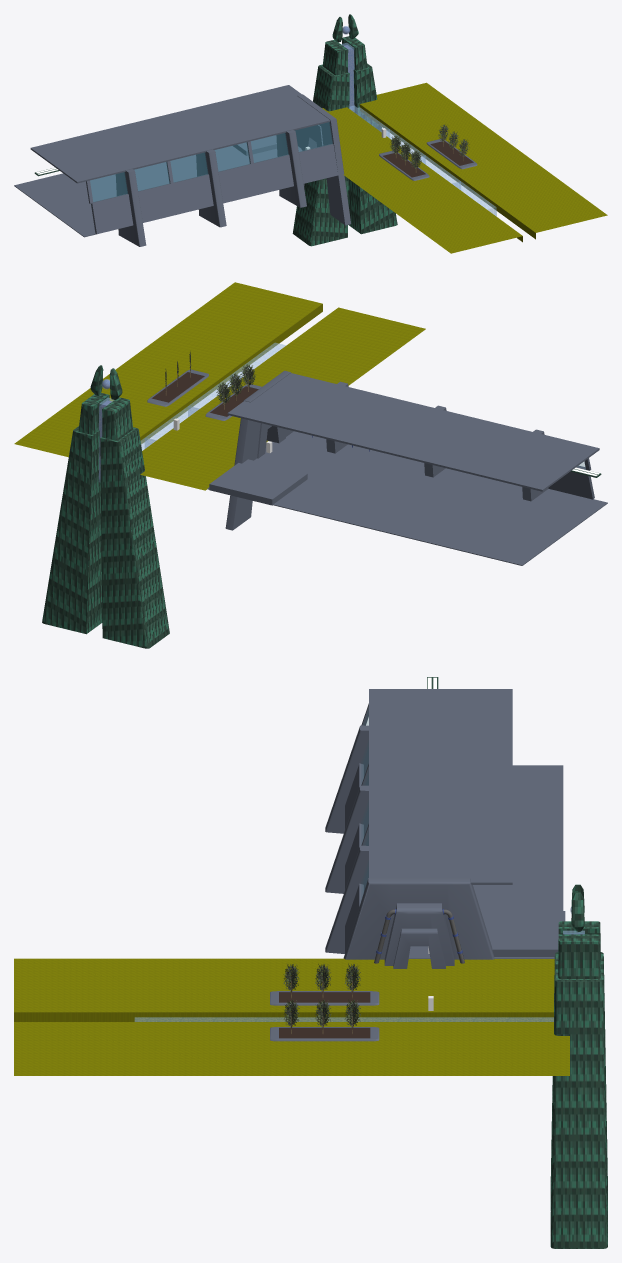
3 views of the same model, one above another, from view 1: azimuth 30°, elevation 25°; view 2: azimuth 150°, elevation 25°; view 3: azimuth 270°, elevation 25° (orthographic). The views are drawn at different scales.
Visible parts, largest first — view 1: Plane, Plane005, Cube_1, Cube003, Plane003, Cube_2, Plane004, Cube023, Cube, Plane006, Plane002, Cube001 (+4 smaller); view 2: Plane, Plane003, Cube003, Plane005, Plane006, Plane004, Cube, Cube_1, Cube023, Cube013_2, Cube002, Plane002 (+1 smaller); view 3: Plane, Plane005, Cube003, Plane003, Plane004, Cube_1, Plane006, Cube, Plane002, Cube023, Plane001, Cube013_2 (+1 smaller).
Part boxes in pixels (left/top/right/bottom): Plane: left=322, top=82, right=607, bottom=253; Plane005: left=30, top=85, right=330, bottom=183; Cube_1: left=86, top=130, right=338, bottom=246; Cube003: left=292, top=63, right=397, bottom=246; Plane003: left=14, top=146, right=302, bottom=237; Cube_2: left=90, top=122, right=332, bottom=201; Plane004: left=295, top=94, right=351, bottom=225; Cube023: left=349, top=105, right=496, bottom=216; Cube: left=322, top=36, right=367, bottom=75; Plane006: left=232, top=135, right=276, bottom=155; Plane002: left=301, top=125, right=323, bottom=150; Cube001: left=341, top=43, right=354, bottom=111; Plane: left=14, top=282, right=425, bottom=490; Plane003: left=207, top=431, right=607, bottom=565; Cube003: left=42, top=426, right=169, bottom=648; Plane005: left=227, top=373, right=599, bottom=491; Plane006: left=209, top=459, right=307, bottom=505; Plane004: left=225, top=370, right=293, bottom=530; Cube: left=78, top=393, right=132, bottom=440; Cube_1: left=326, top=381, right=594, bottom=501; Cube023: left=140, top=342, right=285, bottom=450; Cube013_2: left=152, top=372, right=204, bottom=402; Cube002: left=90, top=365, right=122, bottom=399; Plane002: left=257, top=423, right=285, bottom=458; Plane: left=14, top=958, right=569, bottom=1075; Plane005: left=369, top=689, right=512, bottom=884; Cube003: left=550, top=952, right=607, bottom=1248; Plane003: left=408, top=765, right=563, bottom=958; Plane004: left=343, top=878, right=494, bottom=959; Cube_1: left=325, top=703, right=368, bottom=953; Plane006: left=481, top=911, right=565, bottom=956; Cube: left=558, top=921, right=600, bottom=978; Plane002: left=384, top=903, right=454, bottom=965; Cube023: left=134, top=1017, right=553, bottom=1021; Plane001: left=393, top=928, right=445, bottom=968; Cube013_2: left=279, top=1028, right=370, bottom=1038.
Size of the model in its own units: 198 by 92.83 by 153.
30 materials, 11 textured.
